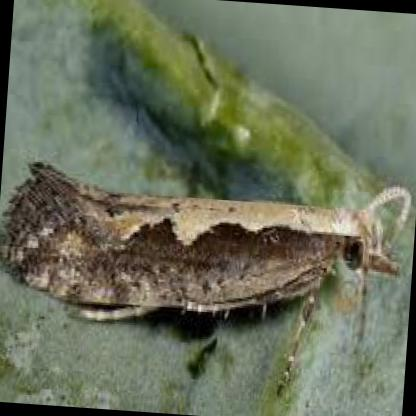plutella: (0, 156, 416, 397)
